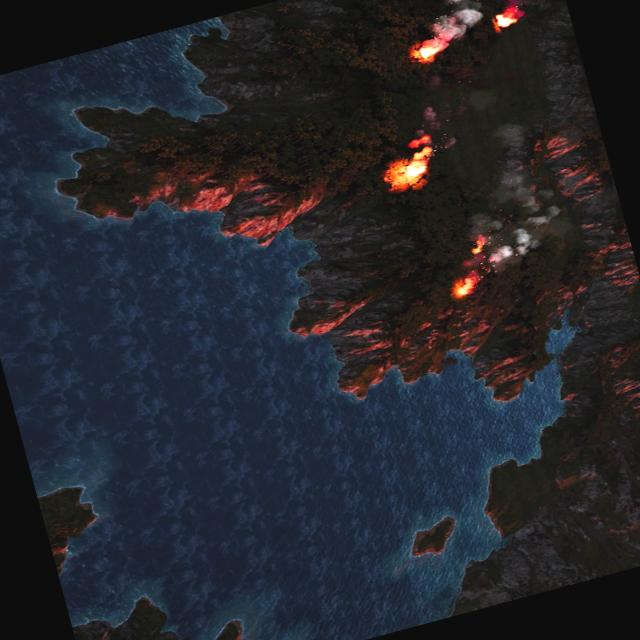fire: (376, 136, 442, 194), (409, 33, 452, 64), (489, 2, 527, 32), (449, 273, 482, 301)
smoke: (440, 121, 569, 279), (420, 0, 567, 39), (400, 104, 450, 152)
